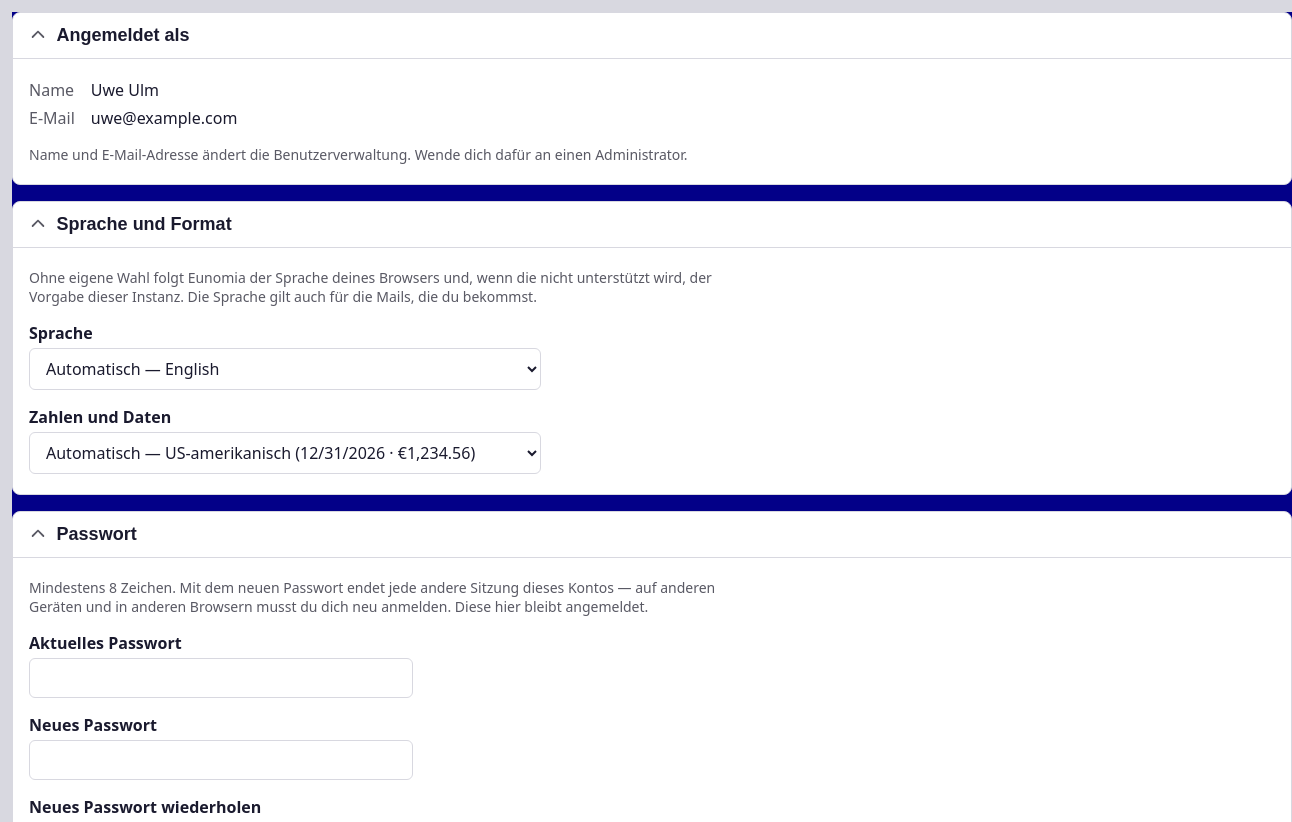
ProfileView › stores a chosen language and puts the answer into the session
The width and height of the screenshot is (1292, 822).
Select "English" in the dropdown labelled "Sprache". click: (285, 369)
box: left=29, top=348, right=541, bottom=390
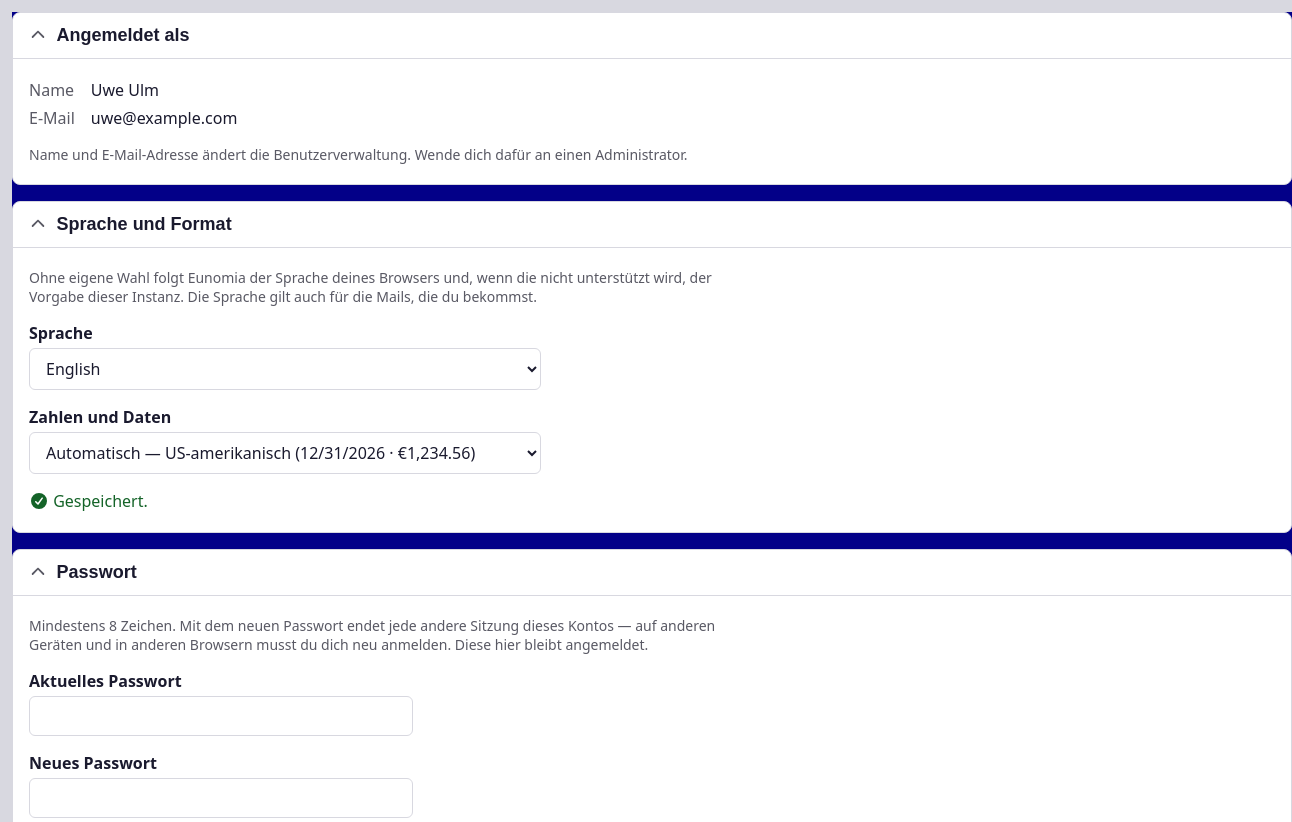
Check: the text "Gespeichert." is shown, box left=29, top=490, right=148, bottom=512
